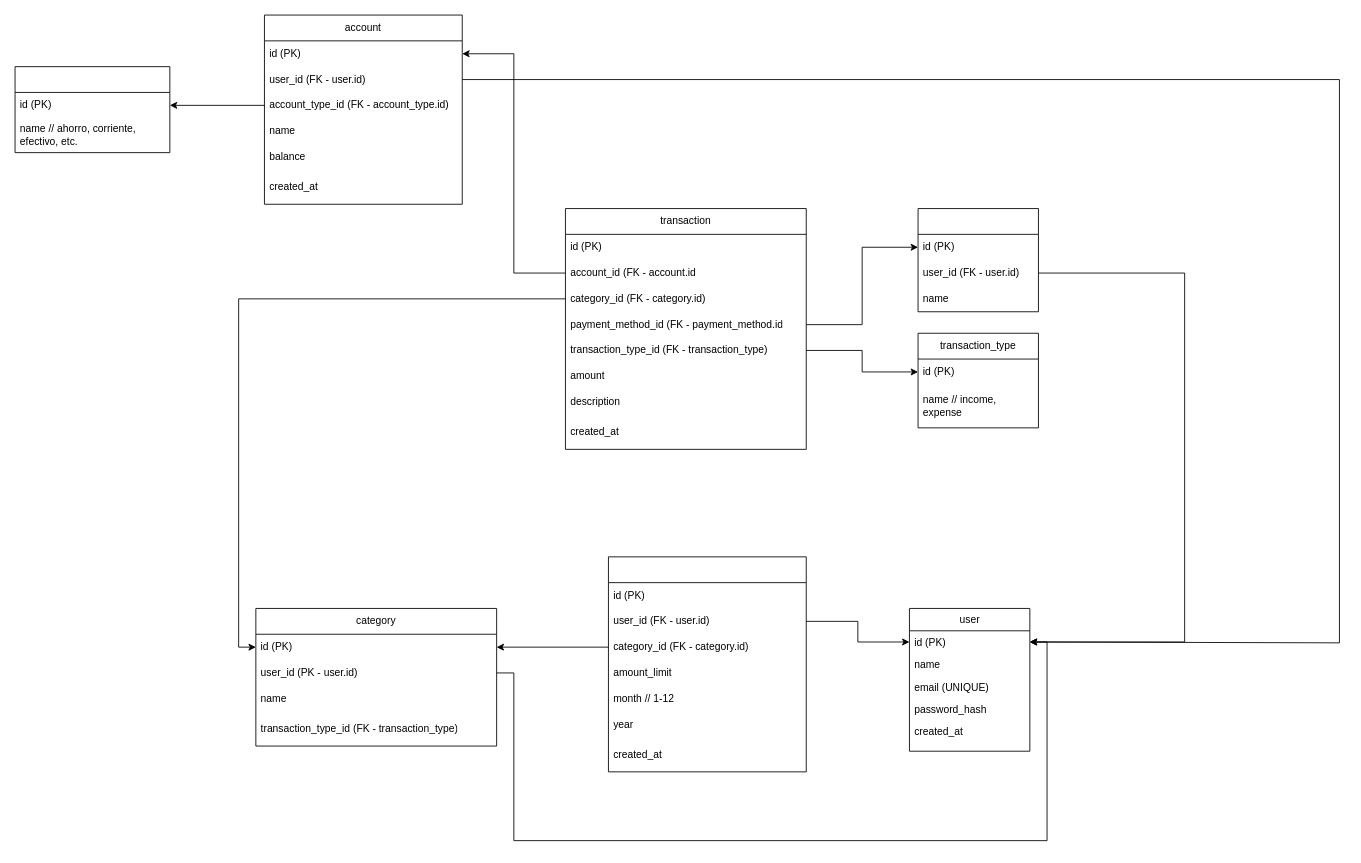
Image size: 1361x863. Some labels were removed from this diagram. Each missing label, with the box of its shape:
account_type: (14, 66, 170, 153)
budget: (608, 556, 806, 772)
payment_method: (917, 208, 1038, 312)
